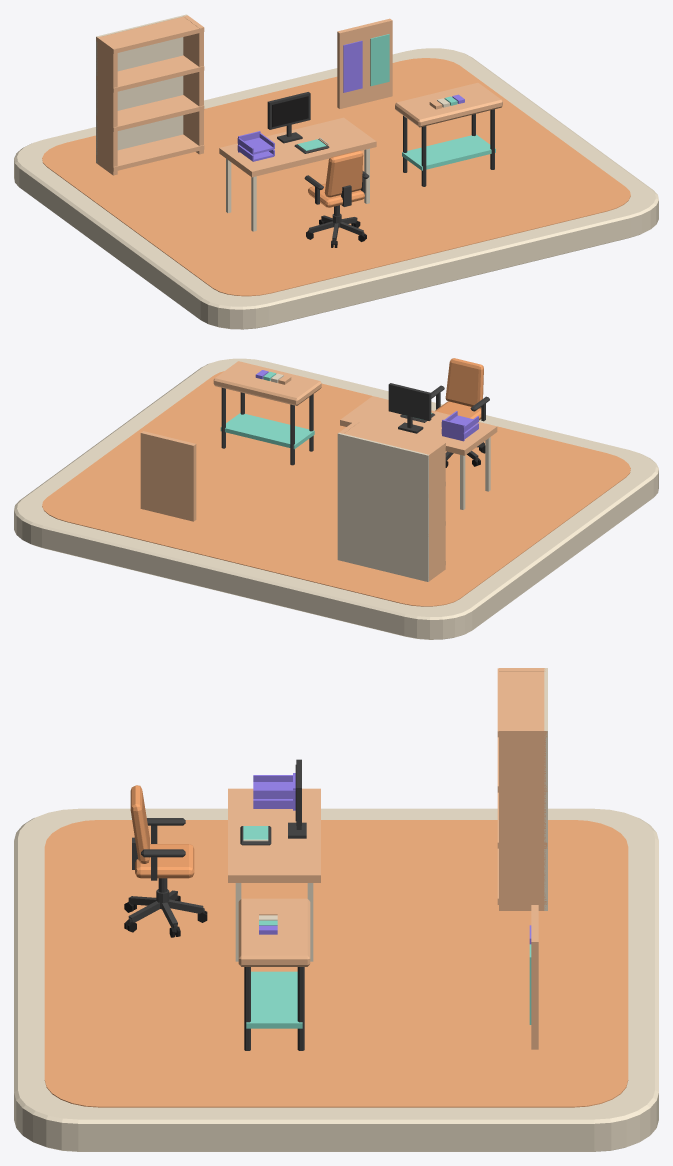
3 renders of one model, top to bottom at view 1: azimuth 30°, elevation 25°; view 2: azimuth 150°, elevation 25°; view 3: azimuth 270°, elevation 25°, orthographic. The views are drawn at different scales.
Visible parts, largest first — view 1: COM-02 Floor Surface, COM-01 Rounded Base Direct, Top, Back, COM-04_Chair_blender_direct, Design board, Side, Worktop, Side.001, Shelf.003, Lower shelf, Shelf (+5 smaller); view 2: COM-02 Floor Surface, COM-01 Rounded Base Direct, Back, Design board, Top, COM-04_Chair_blender_direct, Worktop, Side, Lower shelf, Frame, Shelf.003; view 3: COM-02 Floor Surface, COM-01 Rounded Base Direct, Side.001, Top, COM-04_Chair_blender_direct, Worktop, Shelf.003, Lower shelf, Design board, Back, Frame.
Boxes of the visible parts, <box> form: COM-02 Floor Surface: <box>42,58,630,296</box>; COM-01 Rounded Base Direct: <box>14,48,658,329</box>; Top: <box>219,117,376,231</box>; Back: <box>96,14,187,163</box>; COM-04_Chair_blender_direct: <box>304,150,369,247</box>; Design board: <box>337,18,392,108</box>; Side: <box>96,36,117,175</box>; Worktop: <box>395,82,502,127</box>; Side.001: <box>183,15,203,154</box>; Shelf.003: <box>96,16,204,53</box>; Lower shelf: <box>402,134,495,170</box>; Shelf: <box>96,134,204,171</box>; COM-02 Floor Surface: <box>42,371,630,606</box>; COM-01 Rounded Base Direct: <box>14,358,658,639</box>; Back: <box>337,432,428,581</box>; Design board: <box>140,431,196,521</box>; Top: <box>340,396,497,509</box>; COM-04_Chair_blender_direct: <box>431,358,489,467</box>; Worktop: <box>213,361,321,405</box>; Side: <box>425,442,445,581</box>; Lower shelf: <box>220,413,314,449</box>; Frame: <box>388,383,431,433</box>; Shelf.003: <box>344,421,445,459</box>; COM-02 Floor Surface: <box>44,820,628,1107</box>; COM-01 Rounded Base Direct: <box>14,808,658,1151</box>; Side.001: <box>499,728,545,910</box>; Top: <box>228,788,320,961</box>; COM-04_Chair_blender_direct: <box>124,785,207,937</box>; Worktop: <box>238,898,310,966</box>; Shelf.003: <box>497,668,547,737</box>; Lower shelf: <box>246,971,302,1028</box>; Design board: <box>531,905,538,1049</box>; Back: <box>544,668,547,910</box>; Frame: <box>288,759,306,838</box>.
Bounding box in the file's own units: 6 × 1.9 × 5.2.
Materials: 1 (1 with a texture image).
